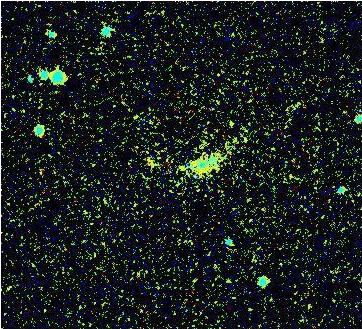star: (165, 153, 195, 183)
